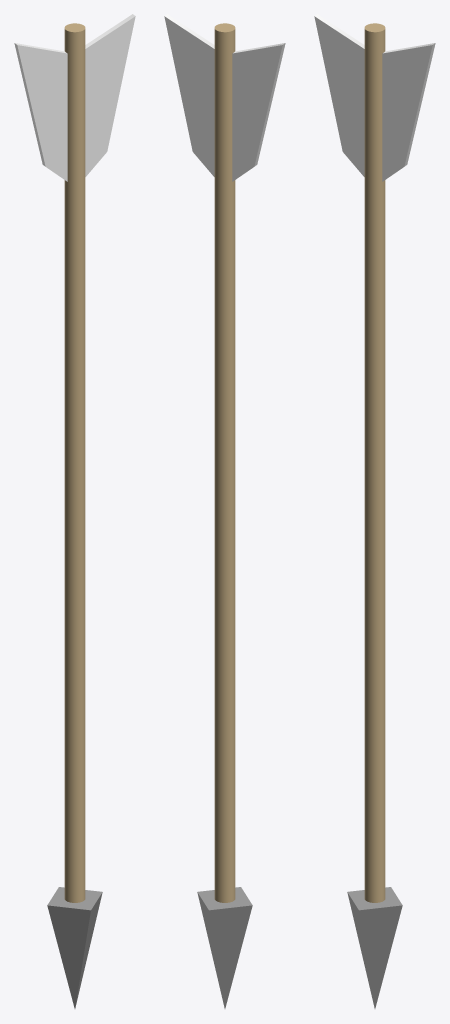
File: arrow.fbx
3 renders of one model, left to right at view 1: azimuth 30°, elevation 25°; view 2: azimuth 150°, elevation 25°; view 3: azimuth 330°, elevation 25°, orthographic.
Parts seen in each view (by area): view 1: arrow3, arrow2, arrow1; view 2: arrow3, arrow2, arrow1; view 3: arrow3, arrow2, arrow1.
Part boxes in pixels (<box>): arrow3: <box>64,23,85,902</box>; arrow2: <box>14,14,135,181</box>; arrow1: <box>47,887,102,1008</box>; arrow3: <box>214,23,235,902</box>; arrow2: <box>164,14,285,181</box>; arrow1: <box>197,887,252,1008</box>; arrow3: <box>364,23,385,902</box>; arrow2: <box>314,14,435,181</box>; arrow1: <box>347,887,402,1008</box>.
Size of the model in its own units: 5.34 by 42.34 by 2.5.
